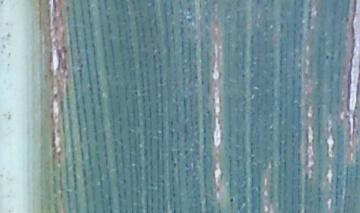tarspot: (60, 61, 69, 72), (5, 112, 14, 121), (60, 44, 69, 53), (6, 50, 13, 58), (64, 4, 70, 13), (6, 30, 12, 39), (78, 62, 85, 69), (178, 18, 184, 26), (204, 108, 210, 116), (324, 54, 330, 61), (228, 196, 234, 203), (239, 72, 246, 78), (248, 68, 254, 75), (1, 42, 7, 49), (5, 62, 12, 68), (63, 74, 70, 80), (52, 93, 59, 99), (344, 16, 349, 23), (172, 161, 177, 168), (1, 1, 6, 6)
